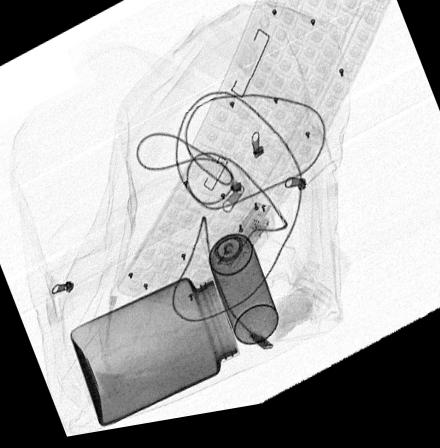Sprayer: (200, 217, 278, 353)
